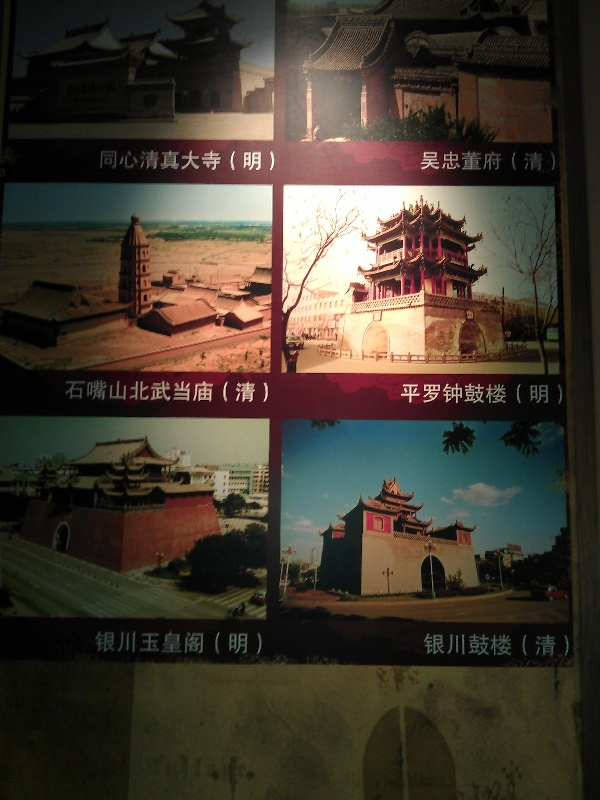text: (97, 631, 112, 655), (113, 631, 128, 655), (129, 631, 144, 655), (145, 631, 160, 655), (161, 631, 176, 655), (177, 631, 192, 655), (193, 631, 208, 655), (209, 631, 224, 655), (225, 631, 240, 655), (241, 631, 256, 655), (433, 633, 448, 657), (449, 633, 464, 657), (465, 633, 480, 657), (481, 633, 496, 657), (497, 633, 512, 657), (513, 633, 528, 657), (529, 633, 544, 657), (545, 633, 560, 657), (113, 149, 128, 172), (129, 149, 144, 172), (145, 149, 160, 172), (161, 149, 176, 172), (177, 149, 192, 172), (193, 149, 208, 172), (209, 149, 224, 172), (225, 149, 240, 172), (241, 149, 256, 172), (257, 149, 272, 172), (65, 379, 80, 402), (81, 379, 96, 402), (97, 379, 112, 402), (113, 379, 128, 402), (129, 379, 144, 402), (145, 379, 160, 402), (161, 379, 176, 402), (177, 379, 192, 402), (193, 379, 208, 402), (209, 379, 224, 402), (225, 379, 240, 402), (241, 379, 256, 402), (433, 151, 448, 171), (449, 151, 464, 171), (465, 151, 480, 171), (481, 151, 496, 171), (497, 151, 512, 171), (513, 151, 528, 171), (529, 151, 544, 171), (401, 384, 416, 404), (417, 384, 432, 404), (433, 384, 448, 404), (449, 384, 464, 404), (465, 384, 480, 404), (481, 384, 496, 404), (497, 384, 512, 404), (513, 384, 528, 404), (529, 384, 544, 404), (545, 384, 560, 404), (100, 149, 112, 172), (257, 379, 269, 402), (545, 151, 557, 171), (561, 633, 571, 657), (421, 151, 432, 171), (425, 633, 432, 657), (257, 631, 263, 655), (337, 76, 351, 83), (273, 149, 276, 172), (561, 384, 563, 404), (95, 631, 96, 655), (334, 76, 336, 83)
